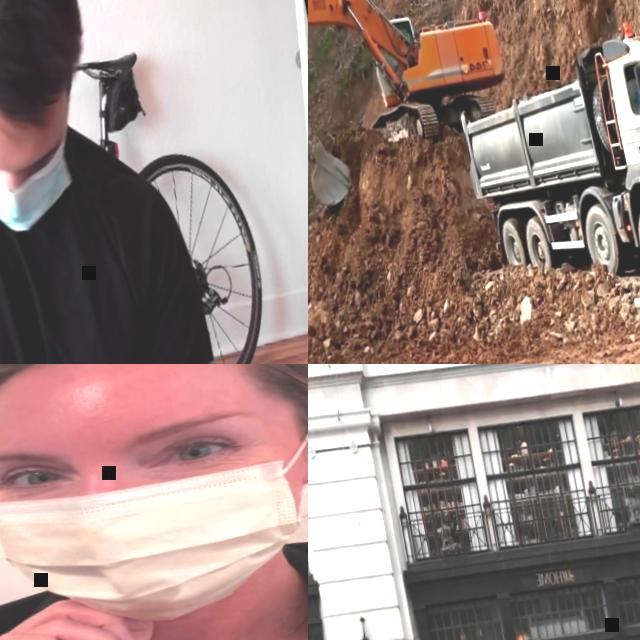machinery: (452, 20, 640, 308), (308, 0, 525, 224)
mask: (0, 400, 308, 640), (0, 124, 84, 241)
no_helmet: (0, 364, 308, 419), (0, 0, 103, 129)
no_vest: (0, 105, 179, 364), (0, 550, 308, 640)
person: (0, 364, 308, 640), (0, 0, 224, 364), (633, 75, 640, 112)
